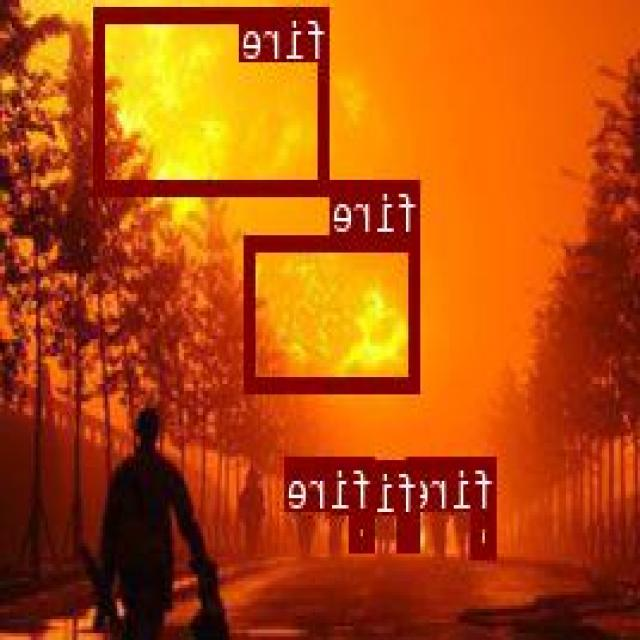fire: (96, 5, 331, 192), (248, 232, 422, 390), (475, 512, 499, 554), (352, 509, 375, 548), (400, 513, 421, 549)
